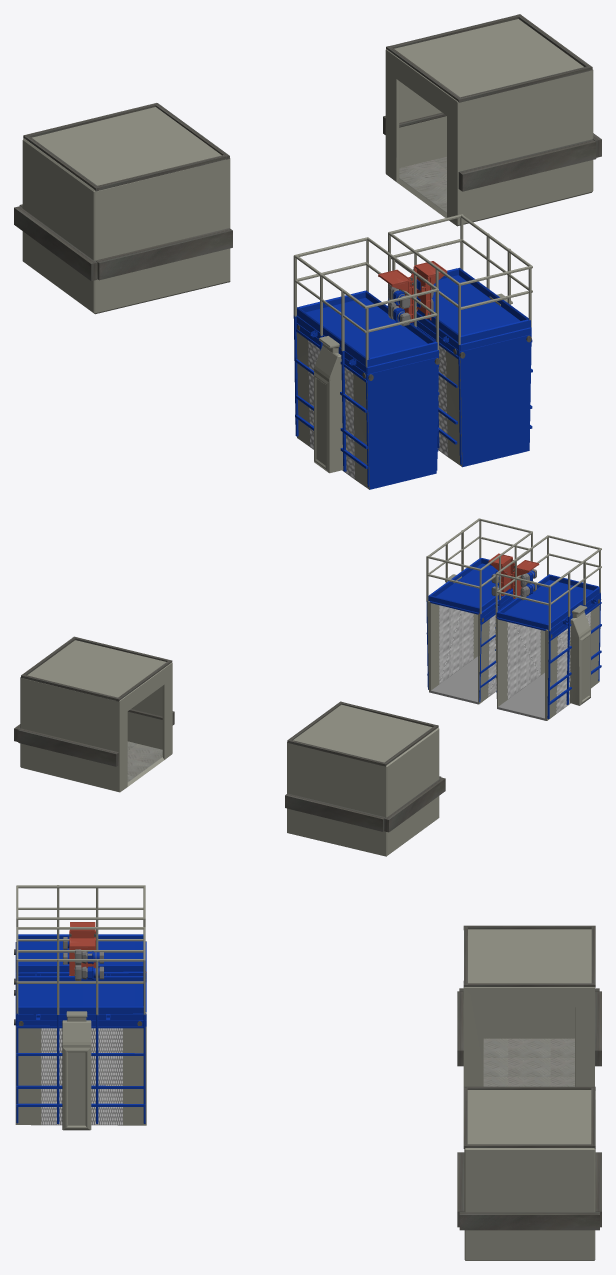
File: lifters.FBX
The picture shows the model from 3 angles, top to bottom: view 1: azimuth 30°, elevation 25°; view 2: azimuth 150°, elevation 25°; view 3: azimuth 270°, elevation 25°; orthographic projection. The views are drawn at different scales.
Visible parts, largest first — view 1: putongdianti002, putongdianti01, gongyedianti01, gongyedianti02; view 2: putongdianti01, putongdianti002, gongyedianti01, gongyedianti02; view 3: putongdianti01, gongyedianti02, putongdianti002, gongyedianti01.
Boxes of the visible parts, left/top/right/bottom form: putongdianti002: left=14, top=103, right=232, bottom=314; putongdianti01: left=383, top=14, right=601, bottom=226; gongyedianti01: left=293, top=237, right=440, bottom=489; gongyedianti02: left=387, top=214, right=532, bottom=467; putongdianti01: left=14, top=636, right=174, bottom=792; putongdianti002: left=285, top=701, right=445, bottom=856; gongyedianti01: left=495, top=535, right=601, bottom=720; gongyedianti02: left=426, top=518, right=533, bottom=704; putongdianti01: left=457, top=1086, right=601, bottom=1260; gongyedianti02: left=14, top=927, right=146, bottom=1130; putongdianti002: left=457, top=925, right=601, bottom=1086; gongyedianti01: left=14, top=885, right=146, bottom=984.
Size of the model in its own units: 29.73 by 10.24 by 32.6.
Materials: 9 (4 with a texture image).
